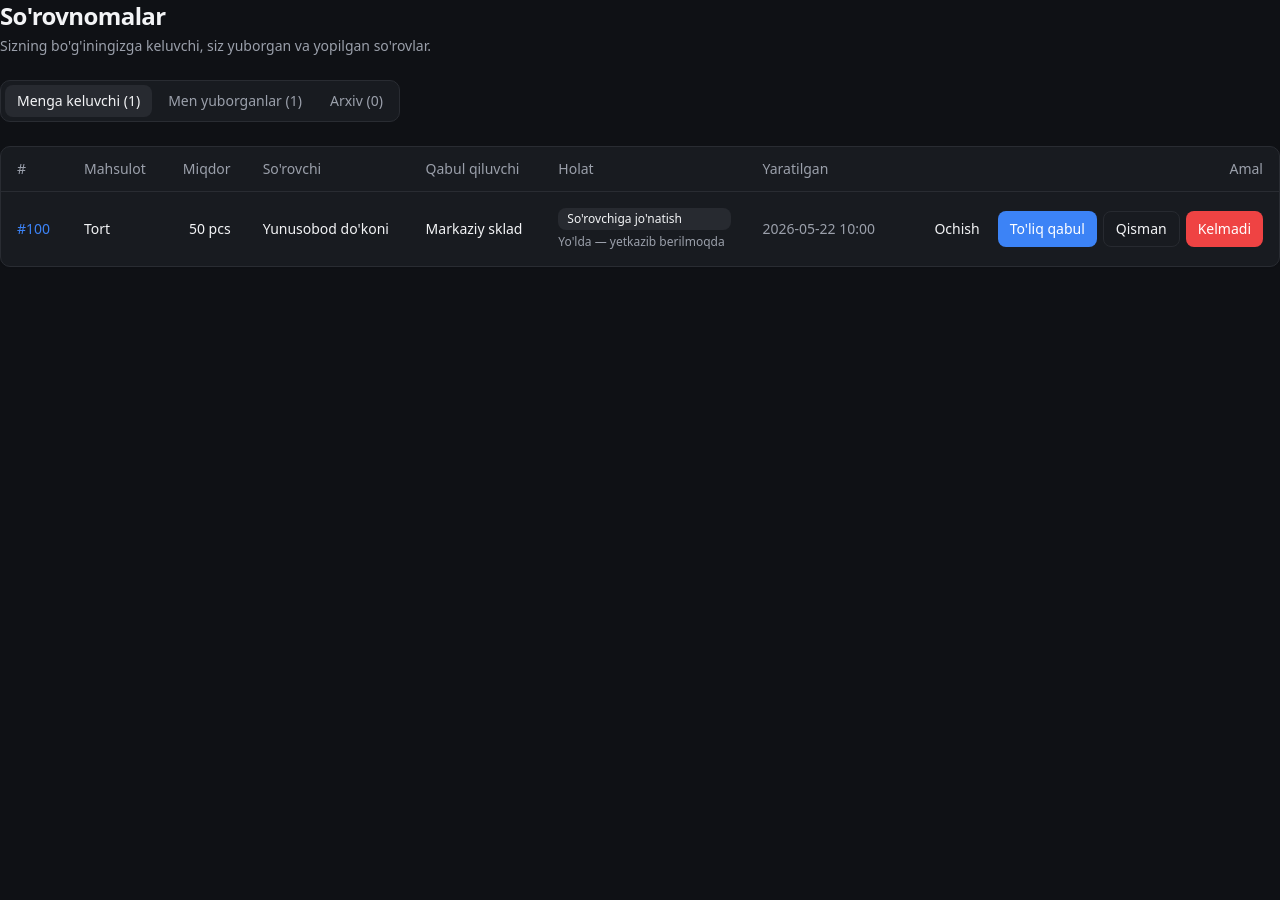
Test case: RequestsPage (/sorovnomalar) › gracefully toasts when the accept endpoint is missing (404)
Expected: the link "#100" is shown, left=17, top=218, right=50, bottom=238
Click the button "To'liq qabul" at (1047, 228), box left=998, top=210, right=1097, bottom=246
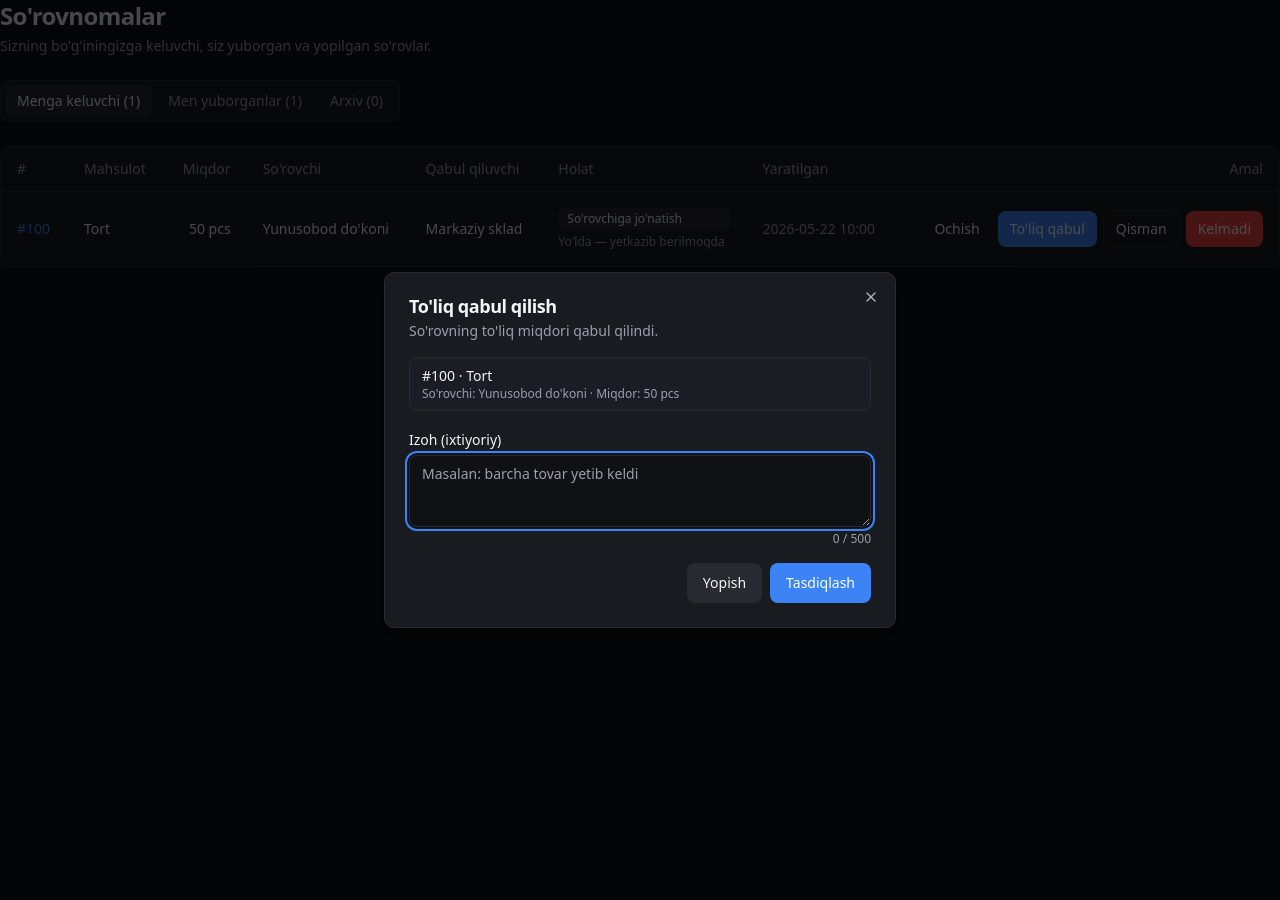
Click the submit button at (821, 583), box left=770, top=563, right=871, bottom=603
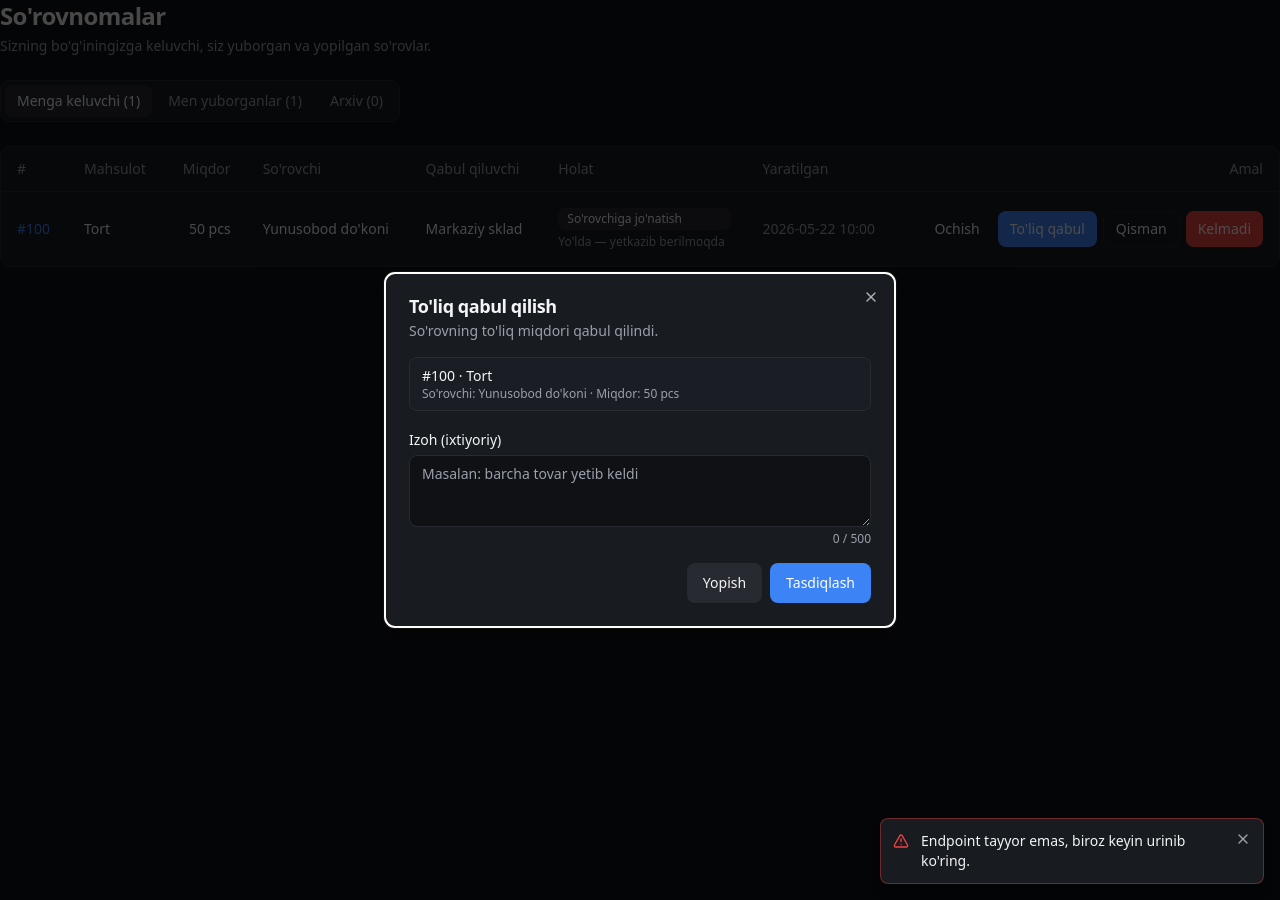
Result: the text "Endpoint tayyor emas, biroz keyin urinib ko'ring." is shown at left=921, top=831, right=1223, bottom=871
